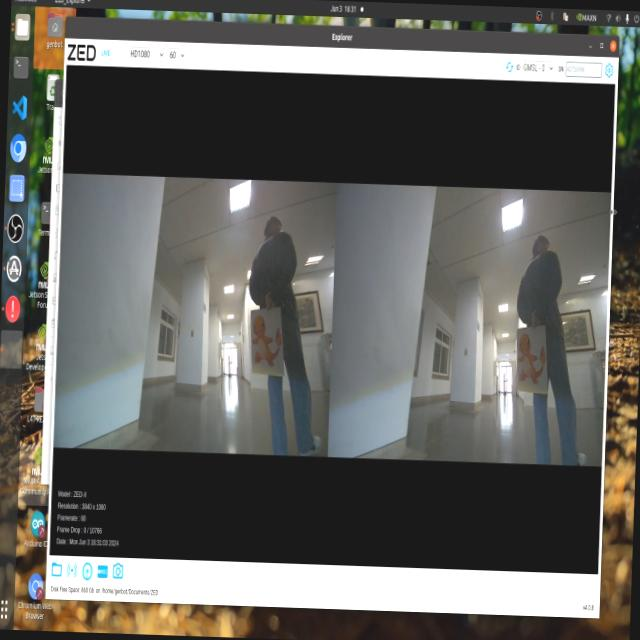red: (248, 309, 284, 370), (514, 326, 544, 394)
